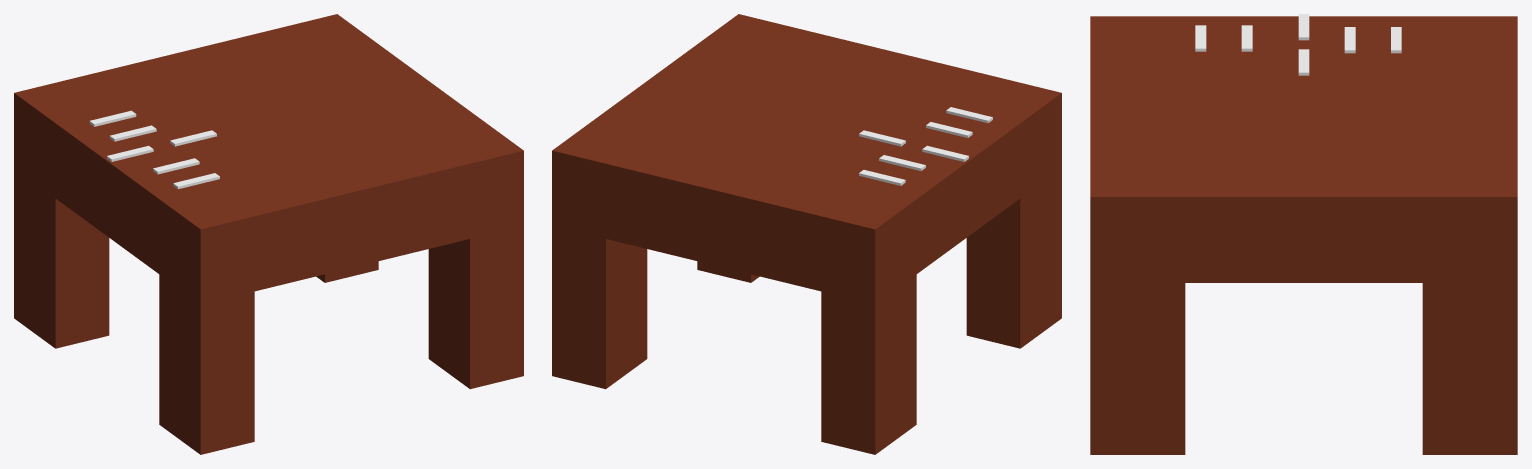
Rendered from keva_env_6.dae.
3 renders of one model, left to right at view 1: azimuth 30°, elevation 25°; view 2: azimuth 150°, elevation 25°; view 3: azimuth 270°, elevation 25°, orthographic. The views are drawn at different scales.
Visible parts, largest first — view 1: base (×5); view 2: base (×5); view 3: base (×3).
Part boxes in pixels (bbox=[...]): base (×5): bbox=[14, 14, 523, 454]; base (×5): bbox=[552, 14, 1061, 454]; base (×3): bbox=[1090, 16, 1517, 454].
Size of the model in its own units: 0.9 by 0.9 by 0.6094.
